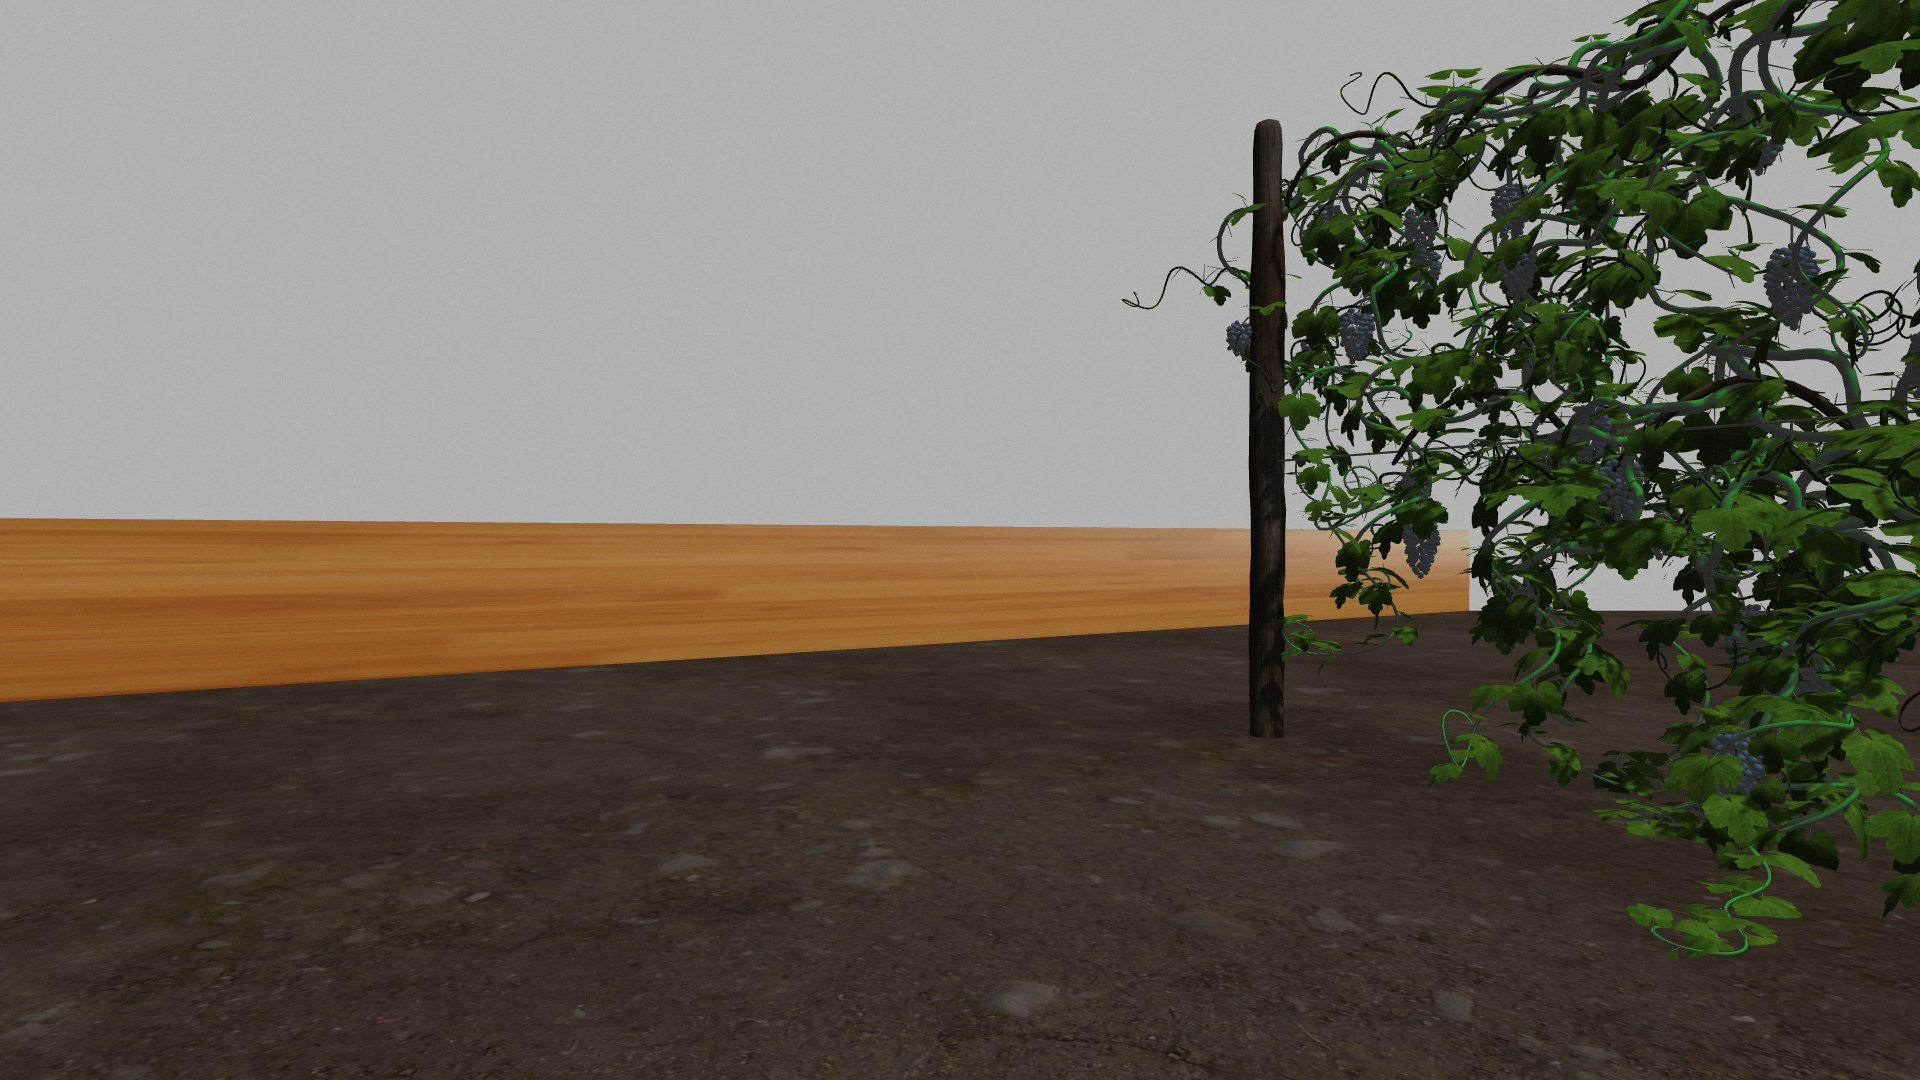grape: (1763, 245, 1822, 330), (1710, 731, 1764, 796), (1601, 456, 1646, 520), (1402, 520, 1443, 580), (1493, 249, 1538, 297), (1338, 309, 1377, 363), (1490, 183, 1530, 233), (1403, 211, 1437, 251), (1225, 319, 1253, 361), (1411, 248, 1443, 284)
